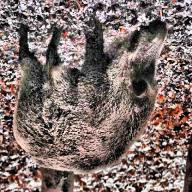boar: (11, 16, 168, 176)
